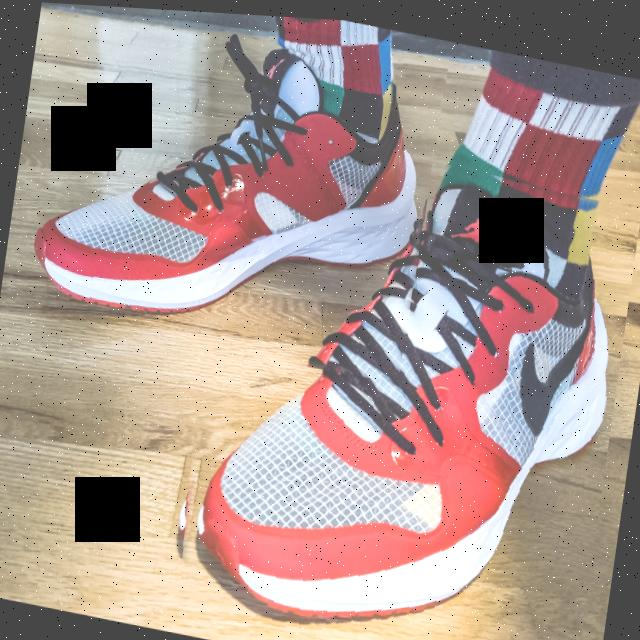shoe: (155, 105, 640, 640), (23, 1, 449, 385)
